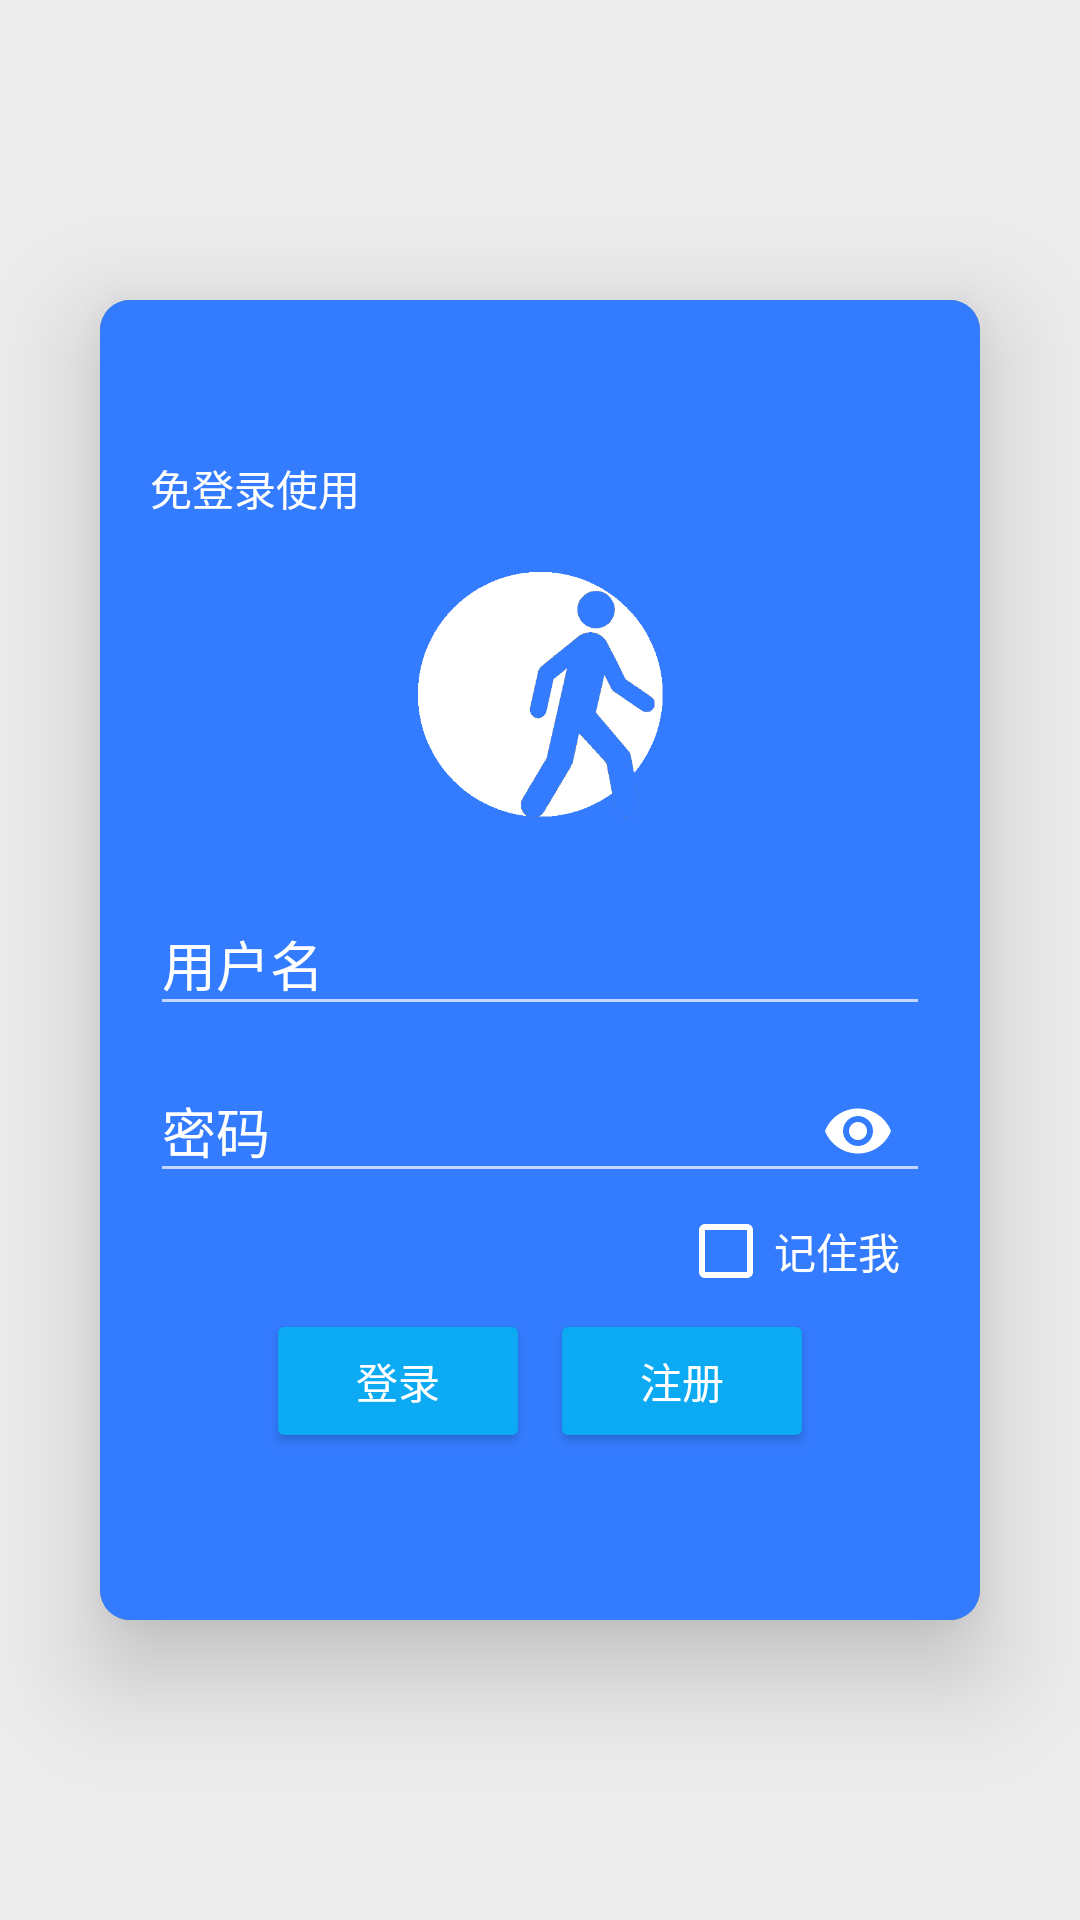

Named icons in this screenshot (1080*1920) and their centers, point (x, y):
walkicon: point (540, 695)
